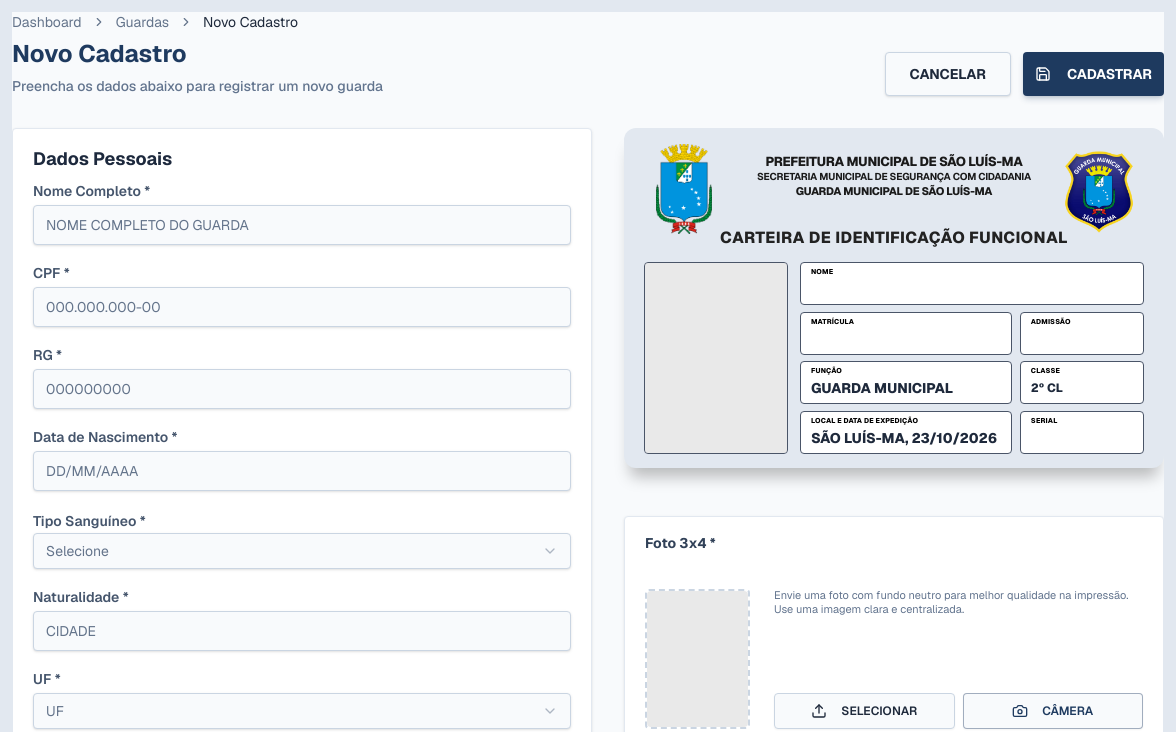
Test case: GuardForm Field Limits and Masks › CPF mask should work correctly
Type "12345678901" into the field labelled "CPF *" at (302, 307), box [33, 287, 571, 327]
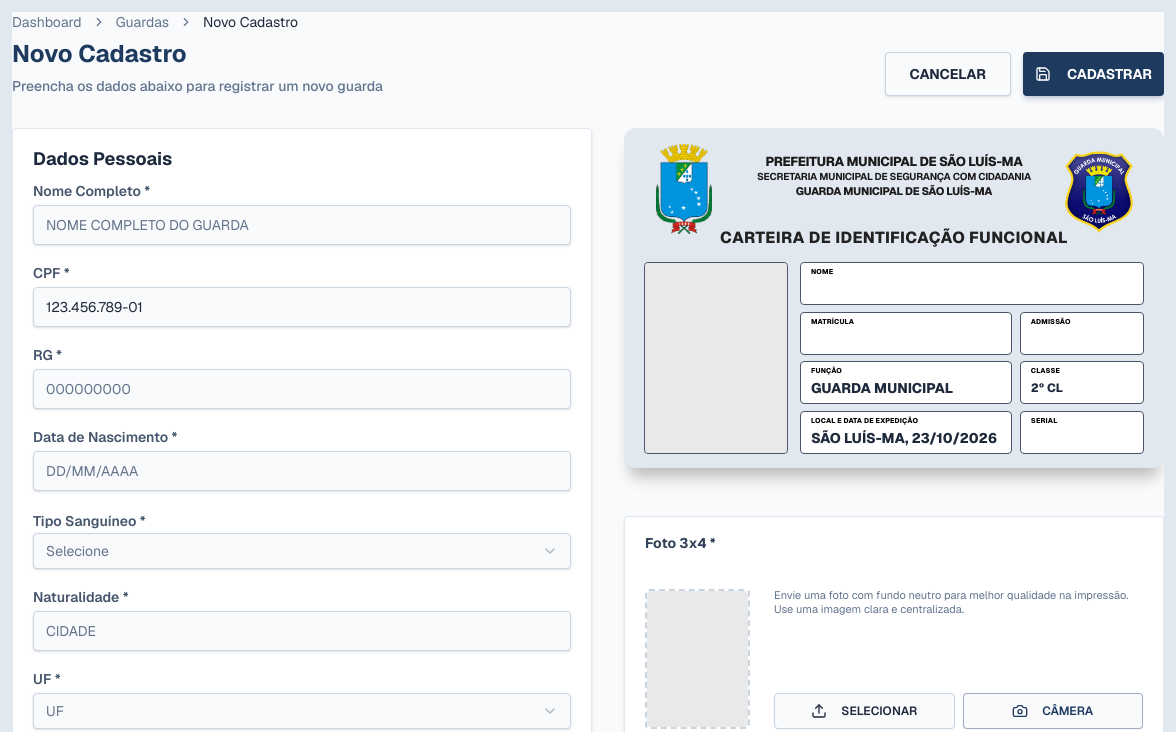
Expected: the field labelled "CPF *" holds "123.456.789-01", [33, 287, 571, 327]
